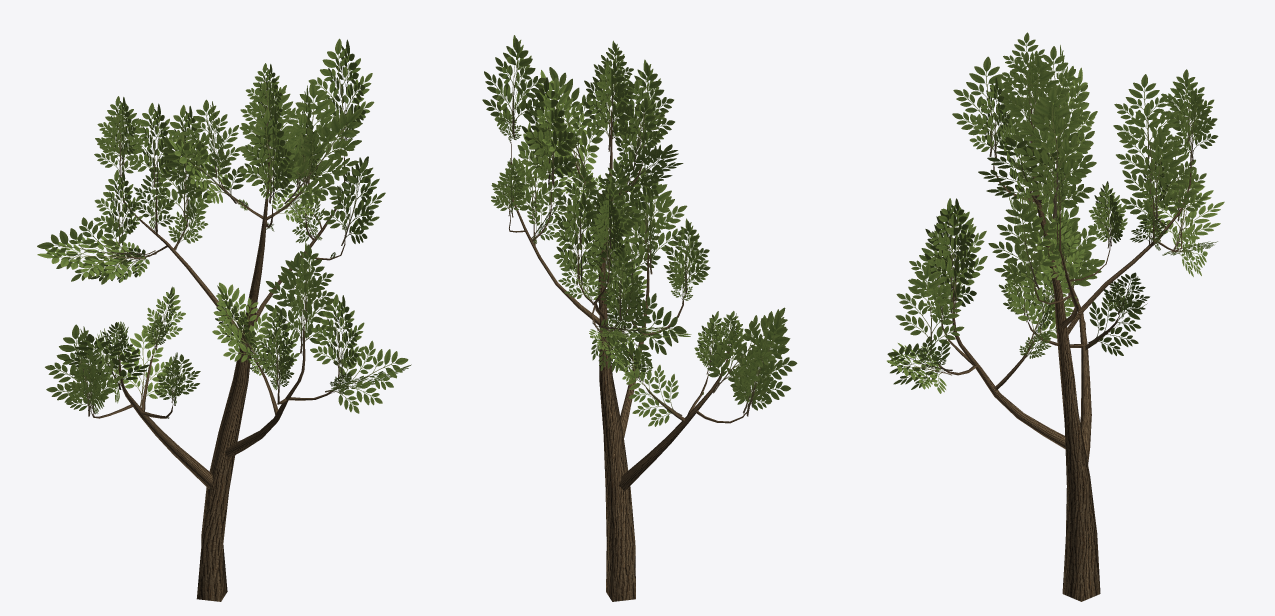
Rendered from Tree10.gltf.
3 views of the same model, side by side, from view 1: azimuth 30°, elevation 25°; view 2: azimuth 150°, elevation 25°; view 3: azimuth 270°, elevation 25° (orthographic). The views are drawn at different scales.
Visible parts, largest first — view 1: leaves.010, trunk.010; view 2: leaves.010, trunk.010; view 3: leaves.010, trunk.010.
Boxes of the visible parts, x1=… form: leaves.010: x1=37, y1=38, x2=411, y2=418; trunk.010: x1=90, y1=136, x2=345, y2=601; leaves.010: x1=482, y1=35, x2=797, y2=426; trunk.010: x1=509, y1=109, x2=747, y2=601; leaves.010: x1=887, y1=32, x2=1224, y2=393; trunk.010: x1=936, y1=104, x2=1191, y2=601.
Size of the model in its own units: 34.27 by 48.27 by 30.96.
2 materials, 2 textured.
